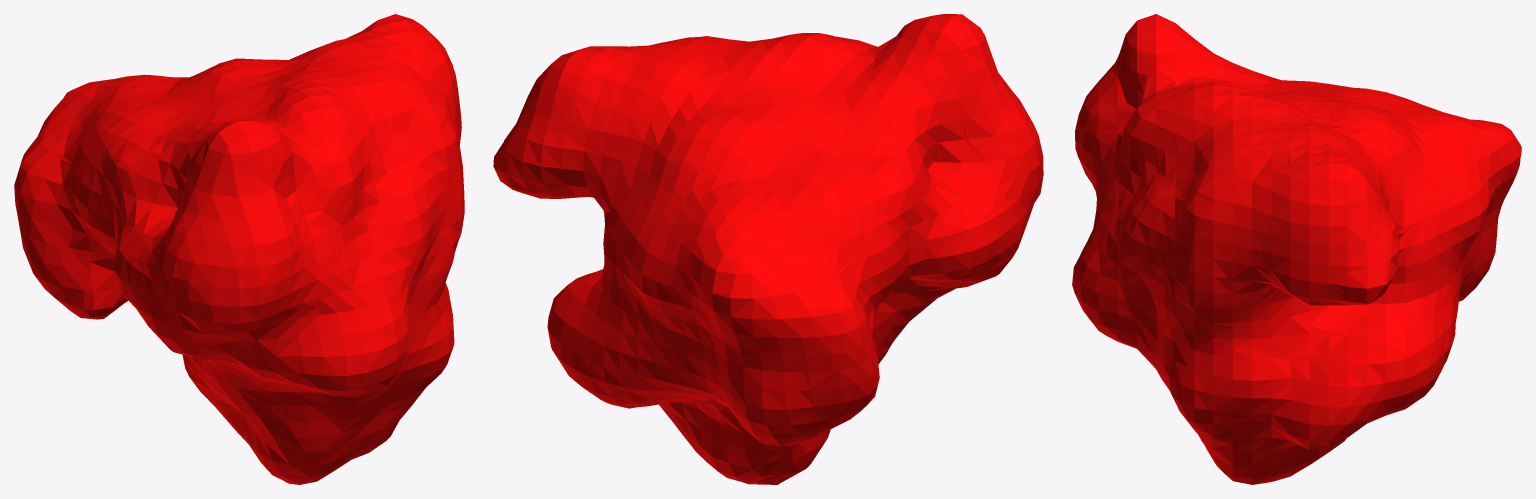
File: cysQ_coarse.dae
The picture shows the model from 3 angles, left to right: view 1: azimuth 30°, elevation 25°; view 2: azimuth 150°, elevation 25°; view 3: azimuth 270°, elevation 25°; orthographic projection. The views are drawn at different scales.
Visible parts, largest first — view 1: cysQ; view 2: cysQ; view 3: cysQ.
Boxes of the visible parts, x1,y1,x2,y2 form: cysQ: (14, 14, 464, 484); cysQ: (493, 14, 1043, 484); cysQ: (1072, 14, 1521, 484).
Bounding box in the file's own units: 50.42 × 51.7 × 51.74.
